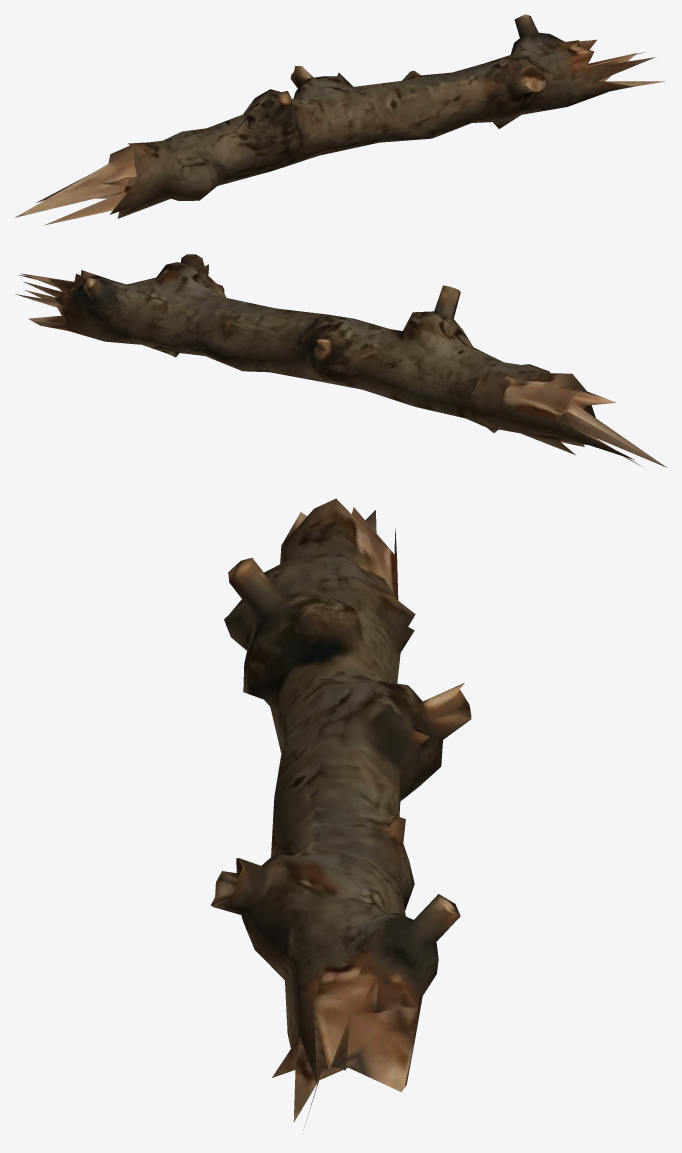
Rendered from club_ground_e.glb.
3 views of the same model, one above another, from view 1: azimuth 30°, elevation 25°; view 2: azimuth 150°, elevation 25°; view 3: azimuth 270°, elevation 25° (orthographic). The views are drawn at different scales.
Parts seen in each view (by area): view 1: geometry_0; view 2: geometry_0; view 3: geometry_0.
Part boxes in pixels (x1=…): geometry_0: x1=14, y1=14, x2=665, y2=225; geometry_0: x1=15, y1=254, x2=666, y2=467; geometry_0: x1=211, y1=498, x2=471, y2=1126.
Bounding box in the file's own units: 0.4539 × 0.0752 × 0.0807.
1 material, 1 textured.
